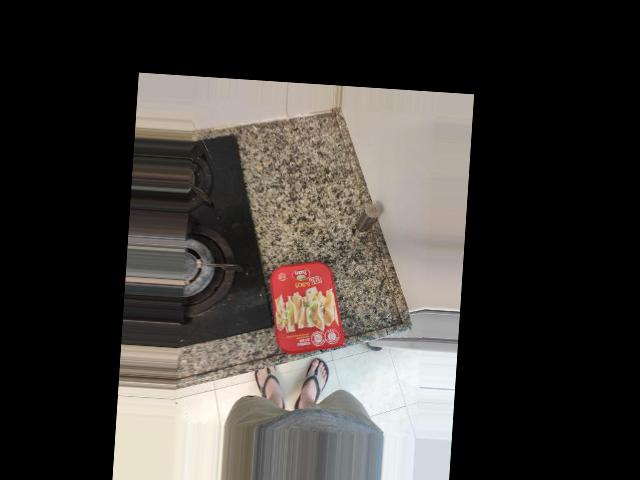cheese: (255, 158, 343, 277)
